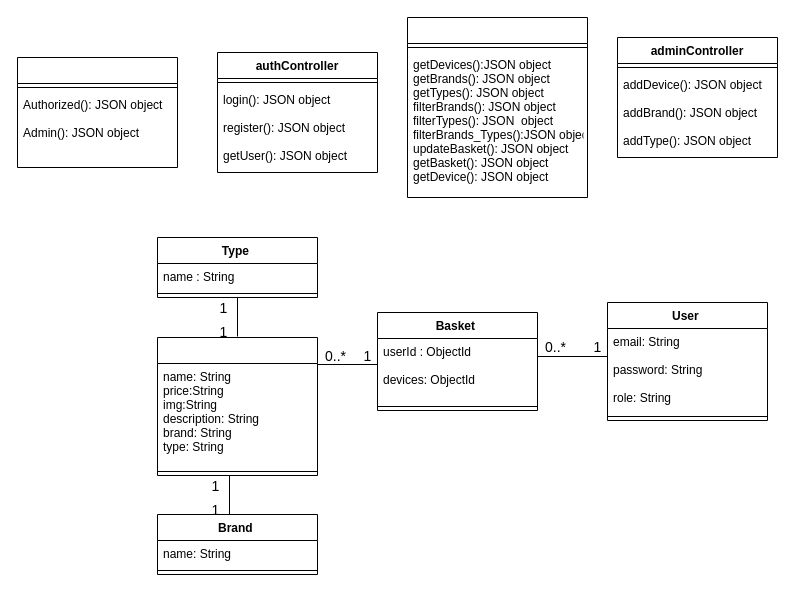
Some shapes in this 795 by 592 pixel diagram are drawn without their labels. The box of each missing label's shape, as (x1, y1, x2, y2) in pixels:
authMiddleware: (16, 56, 178, 168)
Device: (156, 336, 318, 476)
userController: (406, 16, 588, 198)
